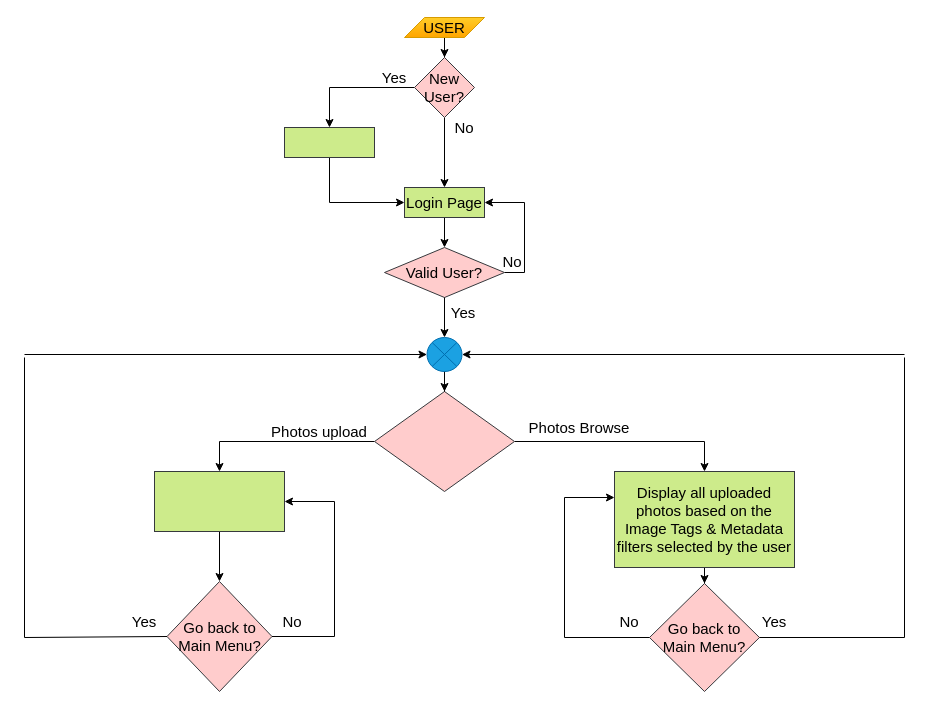
Some shapes in this 930 by 709 pixel diagram are drawn without their labels. Here are the shapes that lost their labels. From the top down, the centre of each, then its label:
At (x=329, y=142): "Signup Page".
At (x=444, y=441): "Photo Upload or Photo Browse?".
At (x=219, y=501): "Upload Photos by browsing user device FileSystem".
